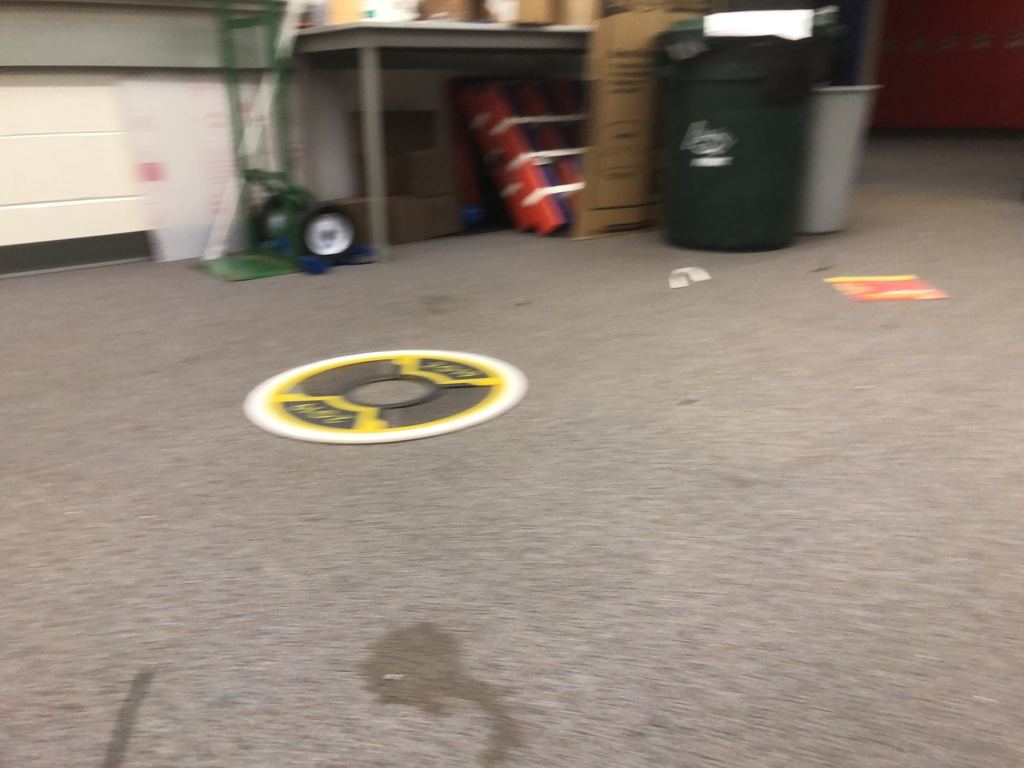hatch_panel: (226, 338, 575, 452)
